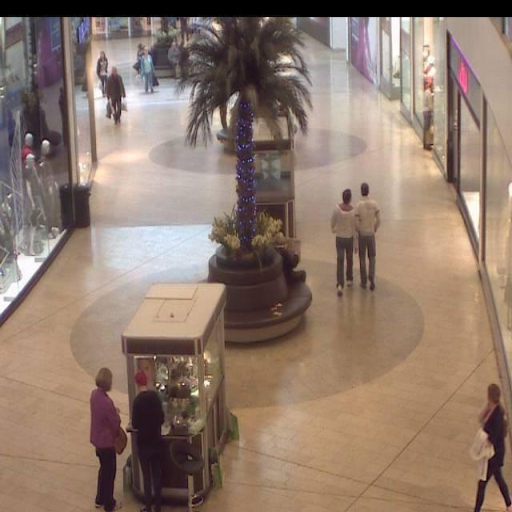person: (129, 370, 165, 512), (473, 383, 512, 512), (90, 367, 123, 511), (330, 189, 355, 297), (356, 181, 379, 291), (105, 65, 127, 123), (142, 45, 155, 93), (97, 48, 109, 93), (167, 41, 181, 74), (132, 41, 141, 74)
